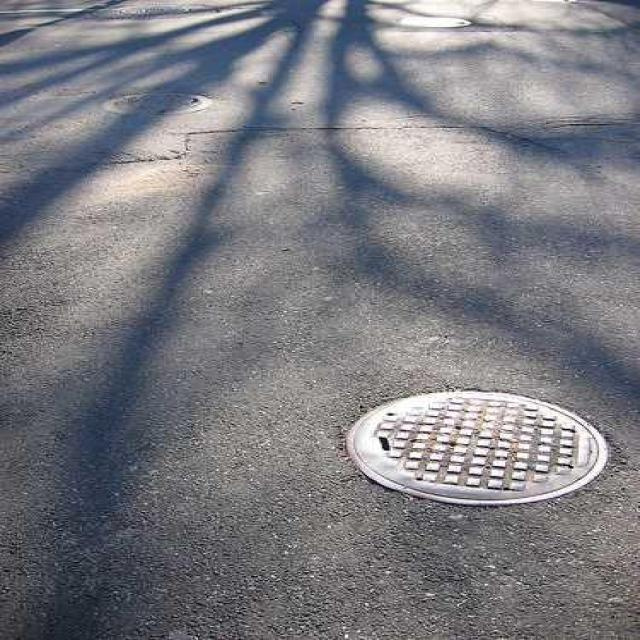manhole: (347, 391, 605, 504), (398, 15, 472, 28)
